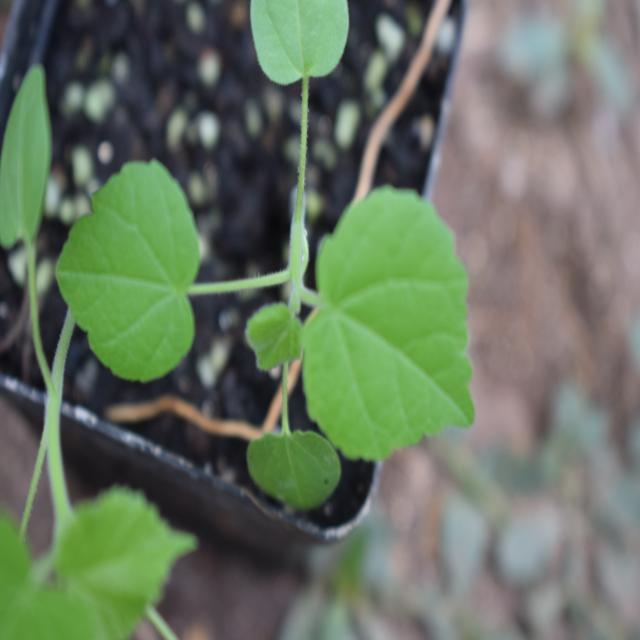abutilon theophrasti: (71, 84, 455, 488)
